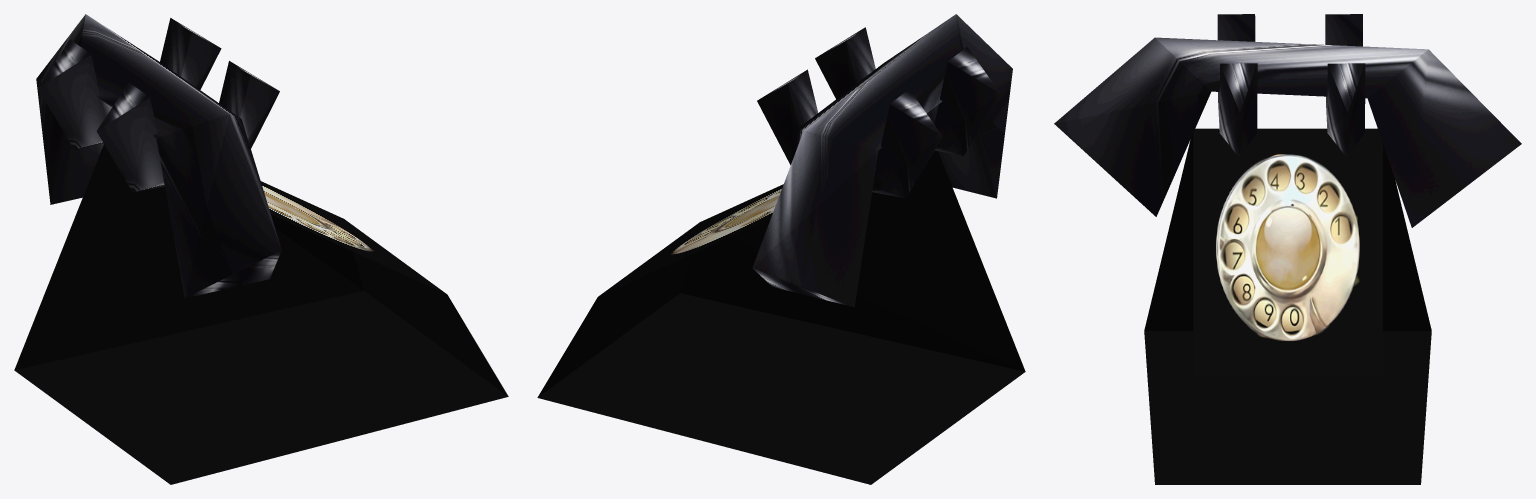
File: TelefonFürTisch_2293.glb
3 views of the same model, side by side, from view 1: azimuth 30°, elevation 25°; view 2: azimuth 150°, elevation 25°; view 3: azimuth 270°, elevation 25° (orthographic). The views are drawn at different scales.
Parts seen in each view (by area): view 1: pCubeShape1, pCylinderShape69, pCylinderShape70, pCylinderShape71; view 2: pCubeShape1, pCylinderShape69, pCylinderShape71, pCylinderShape70; view 3: pCubeShape1, pCylinderShape69, pCylinderShape71, pCylinderShape70.
Part boxes in pixels (bbox=[...]): pCubeShape1: bbox=[14, 144, 508, 484]; pCylinderShape69: bbox=[36, 14, 281, 298]; pCylinderShape70: bbox=[96, 61, 279, 192]; pCylinderShape71: bbox=[38, 18, 221, 149]; pCubeShape1: bbox=[537, 149, 1025, 484]; pCylinderShape69: bbox=[752, 14, 1012, 307]; pCylinderShape71: bbox=[757, 69, 942, 198]; pCylinderShape70: bbox=[815, 27, 1000, 155]; pCubeShape1: bbox=[1144, 128, 1431, 484]; pCylinderShape69: bbox=[1054, 37, 1521, 227]; pCylinderShape71: bbox=[1325, 14, 1365, 157]; pCylinderShape70: bbox=[1217, 14, 1257, 157].
Bounding box in the file's own units: 0.0572 × 0.0525 × 0.0685.
Materials: 5 (4 with a texture image).
